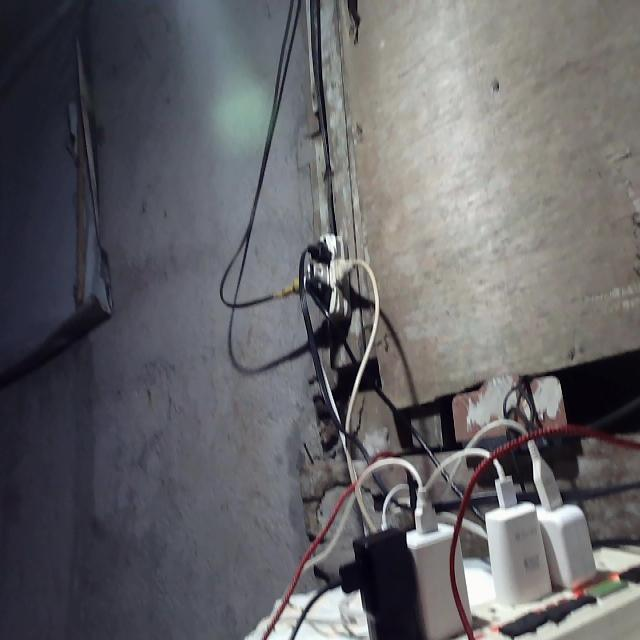-: (272, 230, 381, 330)
